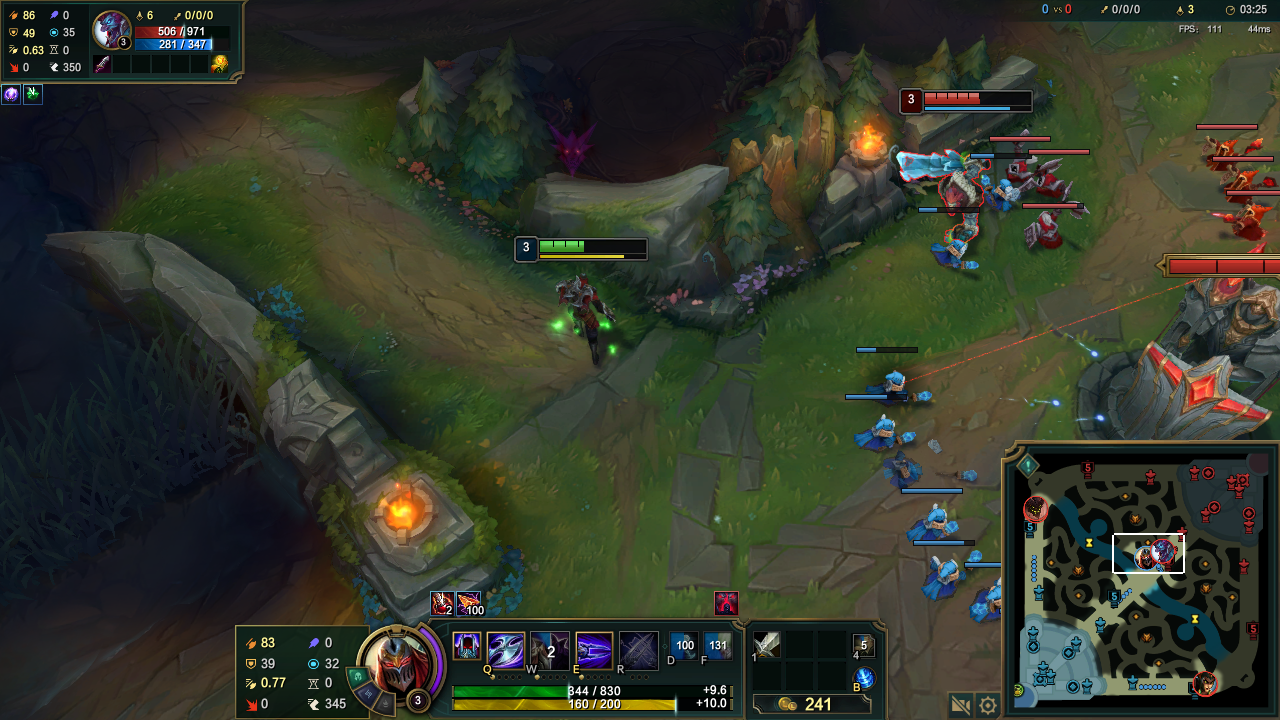DFYX: (920, 88, 1031, 103)
